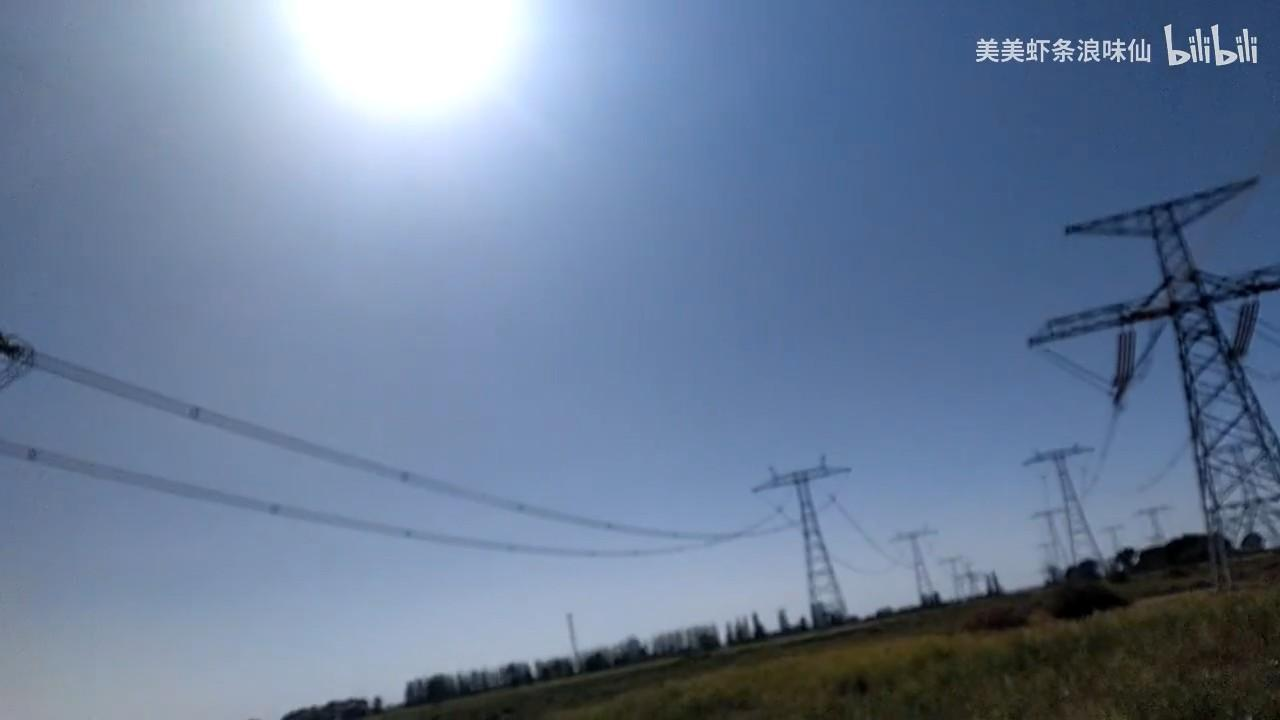power_tower: (1019, 174, 1280, 589), (752, 443, 857, 632), (1019, 439, 1123, 566), (881, 517, 947, 611), (1127, 501, 1184, 546)
